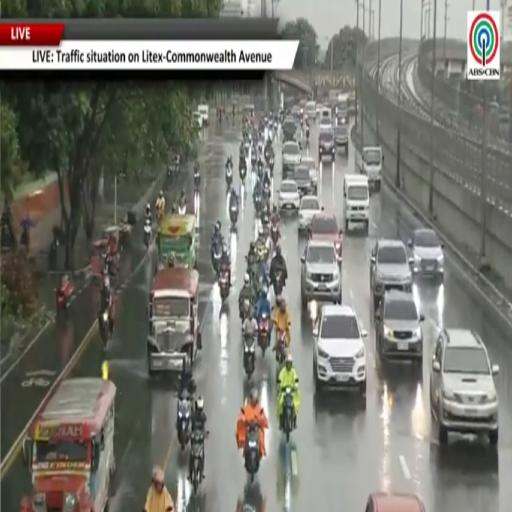car: (430, 329, 498, 445), (313, 304, 367, 396), (374, 290, 424, 364), (370, 239, 412, 311), (301, 242, 341, 309), (409, 229, 444, 280), (309, 212, 342, 263), (343, 174, 369, 234), (357, 147, 383, 191), (366, 492, 425, 511), (298, 196, 321, 231), (278, 181, 300, 211), (301, 156, 318, 194), (293, 164, 311, 197), (282, 141, 301, 170), (334, 118, 348, 154), (319, 131, 335, 162), (282, 118, 296, 142), (197, 104, 209, 126), (319, 117, 332, 132), (193, 112, 202, 129)
jeepney: (23, 378, 116, 511), (147, 267, 201, 375), (158, 215, 197, 268)
motorcycle: (245, 422, 260, 483), (190, 430, 204, 493), (177, 395, 191, 450), (282, 387, 294, 442), (243, 333, 255, 379), (56, 284, 73, 313), (258, 313, 269, 357), (99, 308, 110, 347), (276, 331, 286, 371), (218, 268, 229, 301), (273, 269, 284, 296), (212, 243, 221, 274), (239, 299, 250, 324), (270, 222, 279, 246), (144, 218, 151, 248), (230, 203, 238, 229), (261, 208, 269, 231), (225, 166, 232, 187), (254, 194, 261, 213), (239, 166, 246, 183), (257, 162, 263, 180), (194, 172, 200, 189), (251, 150, 256, 170), (264, 181, 270, 197), (178, 203, 186, 215), (156, 208, 163, 221), (269, 157, 274, 175), (245, 140, 250, 157), (274, 121, 278, 135)
